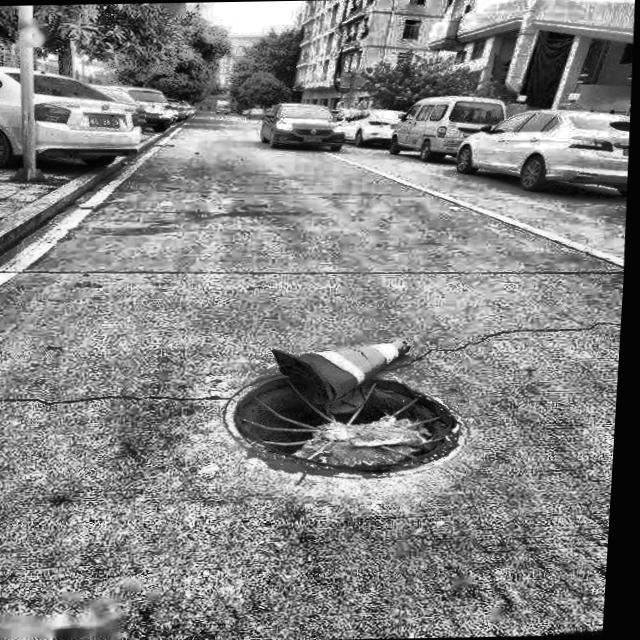open_manhole: (230, 338, 470, 478)
